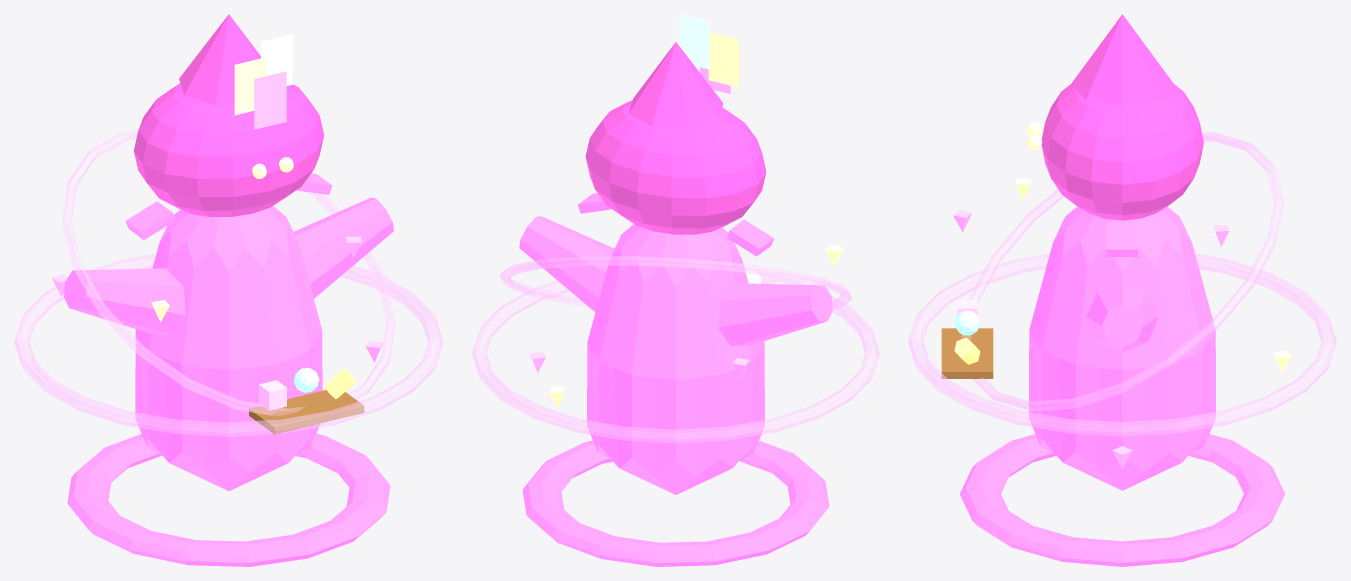
The model's file is hallucination_merchant.glb.
3 views of the same model, side by side, from view 1: azimuth 30°, elevation 25°; view 2: azimuth 150°, elevation 25°; view 3: azimuth 270°, elevation 25° (orthographic). The views are drawn at different scales.
Visible parts, largest first — view 1: CloakBody, MerchantHood, CloakRim, IllusionAura, IllusionAura2, Sleeve_L, Sleeve_R, HoodPeak, WaresTray, GhostFace_1, GhostFace_0, GhostFace_2 (+3 smaller); view 2: CloakBody, MerchantHood, CloakRim, IllusionAura, Sleeve_L, HoodPeak, Sleeve_R, IllusionAura2, GhostFace_0, GhostFace_2, Mantle_L; view 3: CloakBody, MerchantHood, CloakRim, IllusionAura, IllusionAura2, HoodPeak, Sleeve_R, WaresTray, Mantle_R.
Boxes of the visible parts, left/top/right/bottom form: CloakBody: left=135, top=206, right=322, bottom=491; MerchantHood: left=133, top=83, right=324, bottom=217; CloakRim: left=67, top=433, right=390, bottom=566; IllusionAura: left=14, top=254, right=443, bottom=436; IllusionAura2: left=62, top=129, right=395, bottom=415; Sleeve_L: left=64, top=268, right=185, bottom=334; Sleeve_R: left=293, top=197, right=393, bottom=298; HoodPeak: left=179, top=14, right=260, bottom=105; WaresTray: left=249, top=390, right=364, bottom=434; GhostFace_1: left=254, top=71, right=286, bottom=129; GhostFace_0: left=234, top=57, right=266, bottom=115; GhostFace_2: left=261, top=34, right=292, bottom=85; CloakBody: left=587, top=224, right=764, bottom=494; MerchantHood: left=585, top=100, right=766, bottom=234; CloakRim: left=522, top=440, right=829, bottom=566; IllusionAura: left=472, top=271, right=879, bottom=443; Sleeve_L: left=718, top=283, right=832, bottom=346; HoodPeak: left=628, top=42, right=723, bottom=128; Sleeve_R: left=519, top=216, right=614, bottom=312; IllusionAura2: left=500, top=256, right=851, bottom=309; GhostFace_0: left=708, top=32, right=739, bottom=87; GhostFace_2: left=679, top=14, right=709, bottom=69; Mantle_L: left=726, top=219, right=774, bottom=256; CloakBody: left=1029, top=206, right=1215, bottom=490; MerchantHood: left=1041, top=84, right=1203, bottom=220; CloakRim: left=960, top=434, right=1284, bottom=566; IllusionAura: left=908, top=253, right=1336, bottom=436; IllusionAura2: left=961, top=132, right=1283, bottom=411; HoodPeak: left=1071, top=14, right=1173, bottom=105; Sleeve_R: left=1086, top=283, right=1158, bottom=352; WaresTray: left=941, top=328, right=993, bottom=378; Mantle_R: left=1107, top=222, right=1137, bottom=256.
Size of the model in its own units: 1.66 by 2.09 by 1.66.
